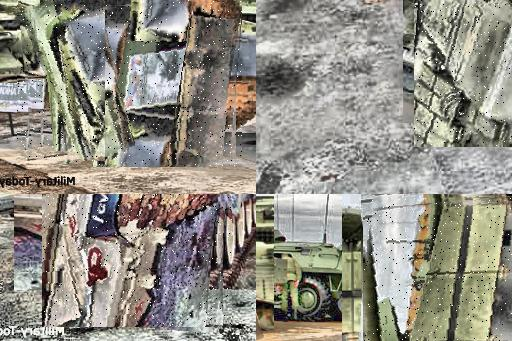tanks: (95, 1, 242, 167), (44, 195, 222, 327), (365, 200, 512, 341), (415, 1, 512, 147), (18, 1, 105, 163), (257, 230, 409, 321)
